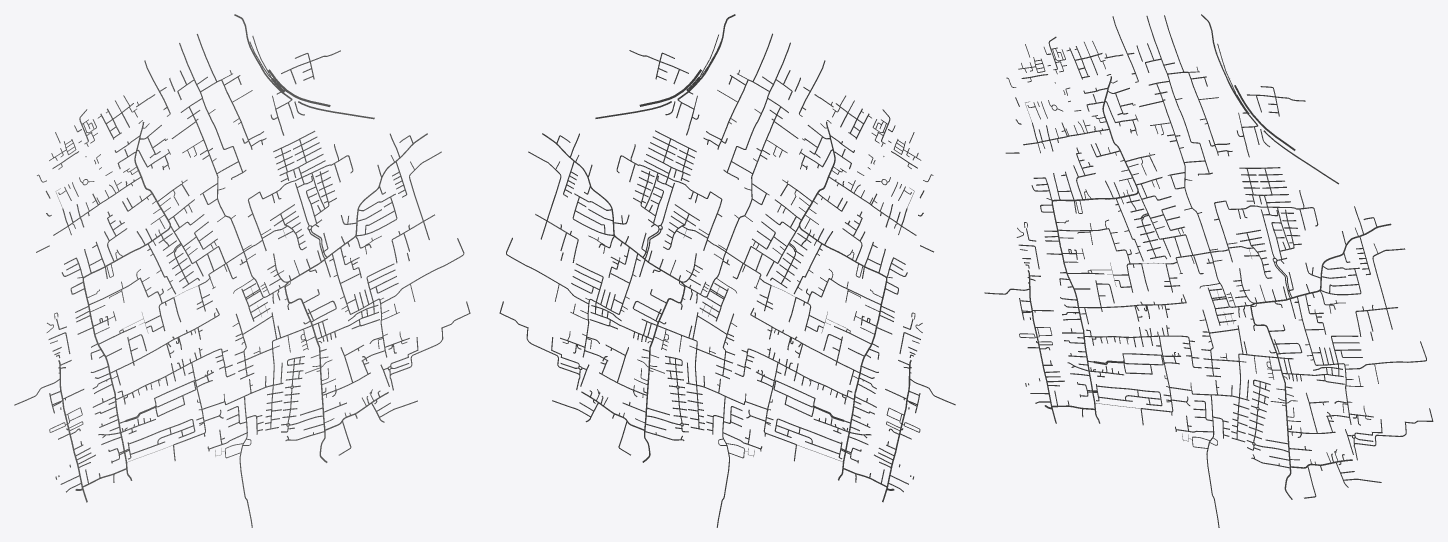
File: roads_1_3.obj
3 renders of one model, left to right at view 1: azimuth 30°, elevation 25°; view 2: azimuth 150°, elevation 25°; view 3: azimuth 330°, elevation 25°, orthographic.
Bounding box in the file's own units: 2504 × 2717 × 11.2.
5 materials, 5 textured.
